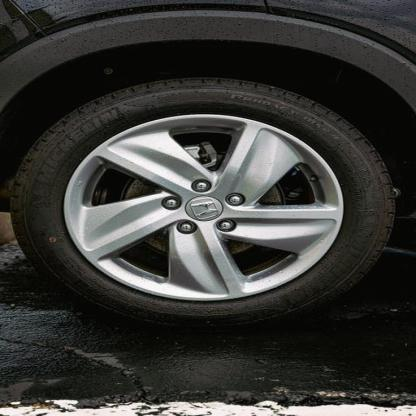Tire: (9, 74, 398, 330)
